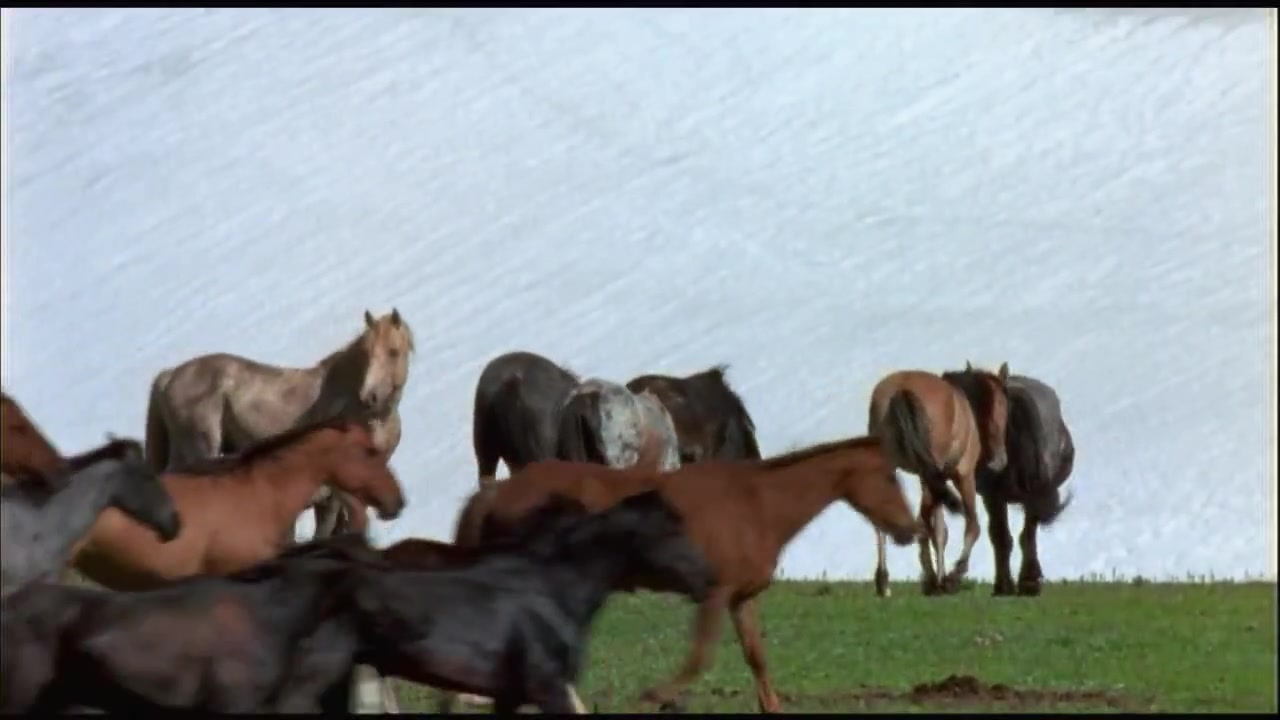horse: (458, 436, 923, 716)
